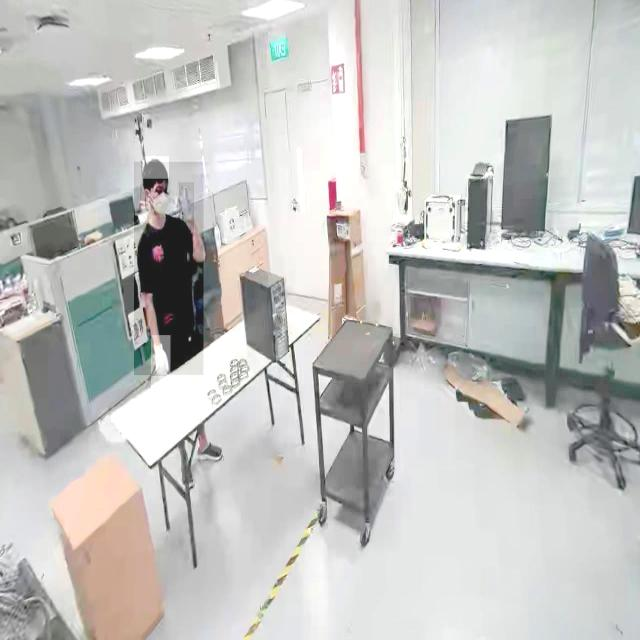face_mask: (149, 181, 171, 215)
hand_glove: (150, 335, 170, 388), (179, 182, 194, 238)
head_nohelmet: (143, 156, 169, 180)
person: (134, 162, 204, 376)
shoes: (196, 437, 226, 467)
